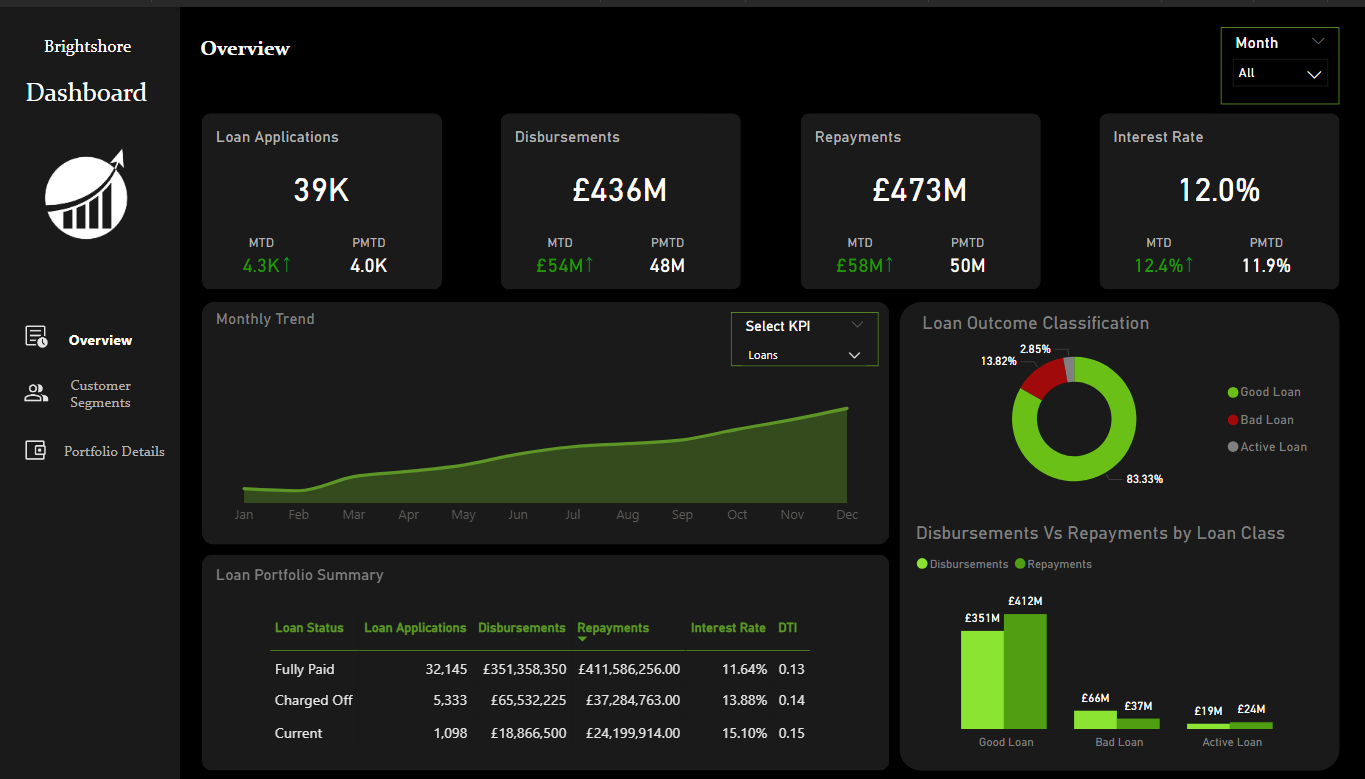

Layout of this report page (visuals, bound fields, positions):
{"tool":"powerbi","page":{"name":"Overview","canvas":[1280,720],"ordinal":0},"visuals":[{"type":"shape","box":[0,0,175.6,719.8],"z":0},{"type":"shape","box":[195.3,98.3,223.3,164],"z":0,"group":"g1"},{"type":"shape","box":[473.6,98.3,223.3,164],"z":0,"group":"g2"},{"type":"shape","box":[751.9,98.3,223.3,164],"z":0,"group":"g3"},{"type":"group","id":"g1","title":"Group 1","box":[195.3,98.3,223.3,165.1],"z":1000},{"type":"shape","box":[1030.2,98.3,223.3,164],"z":1000,"group":"g4"},{"type":"card","title":"Disbursements","fields":{"Values":["Sum(Brightshore.loan_amount)"]},"box":[481.7,111.1,205.8,100],"z":1000,"group":"g2"},{"type":"card","title":"Repayments","fields":{"Values":["Sum(Brightshore.total_payment)"]},"box":[760,111.1,205.8,100],"z":1000,"group":"g3"},{"type":"group","id":"g2","title":"Group 2","box":[473.6,98.3,223.3,165.1],"z":2000},{"type":"card","title":"Interest Rate","fields":{"Values":["Avg(Brightshore.int_rate)"]},"box":[1038.3,111.1,205.8,100],"z":2000,"group":"g4"},{"type":"card","title":"MTD","fields":{"Values":["Measures (2).Disbursement MTD"]},"box":[481.7,211.1,94.2,38.4],"z":2000,"group":"g2"},{"type":"card","title":"MTD","fields":{"Values":["Measures (2).Repayments_MTD"]},"box":[760,211.1,94.2,38.4],"z":2000,"group":"g3"},{"type":"group","id":"g3","title":"Group 3","box":[751.9,98.3,223.3,165.1],"z":3000},{"type":"card","title":"Loan Applications","fields":{"Values":["CountNonNull(Brightshore.Loan_id)"]},"box":[203.4,111.1,205.8,100],"z":3000,"group":"g1"},{"type":"card","title":"PMTD ","fields":{"Values":["Measures (2).Disburse_PMTD"]},"box":[581.7,211.1,94.2,38.4],"z":3000,"group":"g2"},{"type":"card","title":"PMTD ","fields":{"Values":["Measures (2).Repayments_PMTD"]},"box":[860,211.1,94.2,38.4],"z":3000,"group":"g3"},{"type":"card","title":"MTD","fields":{"Values":["Measures (2).int_rate MTD"]},"box":[1038.3,211.1,94.2,38.4],"z":3000,"group":"g4"},{"type":"group","id":"g4","title":"Group 4","box":[1030.2,98.3,223.3,165.1],"z":4000},{"type":"card","title":"PMTD ","fields":{"Values":["Measures (2).int_rate PMTD"]},"box":[1138.3,211.1,94.2,38.4],"z":4000,"group":"g4"},{"type":"card","title":"Loan Applications","fields":{"Values":["Measures (2).Loan_Icon"]},"box":[796.3,213.4,76.7,50],"z":4000,"group":"g3"},{"type":"card","title":"Loan Applications","fields":{"Values":["Measures (2).Loan_Icon"]},"box":[517.3,213.6,76.7,50],"z":4000,"group":"g2"},{"type":"card","title":"Loan Applications","fields":{"Values":["Measures (2).Loan_Icon"]},"box":[1075.5,213.2,76.7,50],"z":5000,"group":"g4"},{"type":"shape","box":[195.3,274.4,639.5,225.6],"z":5000},{"type":"shape","box":[195.3,509.3,639.5,201.2],"z":6000},{"type":"shape","box":[844.2,274.4,409.3,436],"z":7000},{"type":"slicer","fields":{"Values":["KPI selector.KPI selector"]},"box":[687.2,283.7,137.2,50],"z":8000},{"type":"card","title":"MTD","fields":{"Values":["Measures (2).Loan_MTD"]},"box":[203.4,211.1,94.2,38.4],"z":9000,"group":"g1"},{"type":"areaChart","title":"Monthly Trend","fields":{"Y":["Measures (2).Loan Applications"],"Category":["Date Table.Month Name"]},"box":[209.3,333.7,611.6,157],"z":9000},{"type":"card","title":"PMTD ","fields":{"Values":["Brightshore.Loan_PMTD"]},"box":[303.4,211.1,94.2,38.4],"z":10000,"group":"g1"},{"type":"textbox","box":[203.5,275.6,129.1,33.7],"z":10000},{"type":"card","title":"Loan Applications","fields":{"Values":["Measures (2).Loan_Icon"]},"box":[236,213.4,76.7,50],"z":11000,"group":"g1"},{"type":"donutChart","title":"Loan Outcome Classification","fields":{"Category":["Brightshore.Loan Category"],"Y":["CountNonNull(Brightshore.Loan_id)"]},"box":[860.5,283.7,377.9,180.2],"z":11000},{"type":"clusteredColumnChart","title":"Disbursements Vs Repayments by Loan  Class","fields":{"Y":["Measures (2).Disbursements","Measures (2).Repayments"],"Category":["Brightshore.Loan Category"]},"box":[854.7,479.1,388.4,219.8],"z":12000},{"type":"tableEx","title":"Loan Portfolio Summary","fields":{"Values":["Brightshore.loan_status","Measures (2).Loans","Measures (2).Disbursements","Measures (2).Repayments","Measures (2).Interest Rate","Avg(Brightshore.dti)"]},"box":[252.3,559.3,524.4,151.2],"z":13000},{"type":"textbox","box":[203.5,514,195.3,45.3],"z":14000},{"type":"textbox","title":"Brightshore","box":[9.3,26.7,159.3,54.7],"z":15000},{"type":"textbox","title":"Dashboard","box":[0,64,175.6,57],"z":16000},{"type":"textbox","title":"Overview","box":[155.8,26.7,159.3,54.7],"z":17000},{"type":"image","box":[0,96.5,175.6,152.3],"z":18000},{"type":"image","box":[0,288.4,80.2,34.9],"z":19000},{"type":"image","box":[1.2,341.9,80.2,33.7],"z":20000},{"type":"image","box":[0,395.3,80.2,33.7],"z":21000},{"type":"slicer","fields":{"Values":["Date Table.Month Name"]},"box":[1143,18.6,110.5,72.1],"z":22000},{"type":"pageNavigator","box":[46.5,283.7,109.3,50],"z":23000},{"type":"pageNavigator","box":[46.5,334.9,109.3,50],"z":24000},{"type":"pageNavigator","box":[59.3,388.4,109.3,50],"z":25000}]}

Visuals, with their boxes in screenshot pixels (x1, y1, x2, y2), scaled from the page's 1280x720 canvas onto the 1365x779 screenshot:
shape: <region>0, 0, 187, 778</region>
shape: <region>208, 106, 446, 284</region>
shape: <region>505, 106, 743, 284</region>
shape: <region>802, 106, 1040, 284</region>
"Group 1" group: <region>208, 106, 446, 285</region>
shape: <region>1099, 106, 1337, 284</region>
"Disbursements" card: <region>514, 120, 733, 228</region>
"Repayments" card: <region>810, 120, 1030, 228</region>
"Group 2" group: <region>505, 106, 743, 285</region>
"Interest Rate" card: <region>1107, 120, 1327, 228</region>
"MTD" card: <region>514, 228, 614, 270</region>
"MTD" card: <region>810, 228, 911, 270</region>
"Group 3" group: <region>802, 106, 1040, 285</region>
"Loan Applications" card: <region>217, 120, 436, 228</region>
"PMTD " card: <region>620, 228, 721, 270</region>
"PMTD " card: <region>917, 228, 1018, 270</region>
"MTD" card: <region>1107, 228, 1208, 270</region>
"Group 4" group: <region>1099, 106, 1337, 285</region>
"PMTD " card: <region>1214, 228, 1314, 270</region>
"Loan Applications" card: <region>849, 231, 931, 285</region>
"Loan Applications" card: <region>552, 231, 633, 285</region>
"Loan Applications" card: <region>1147, 231, 1229, 285</region>
shape: <region>208, 297, 890, 541</region>
shape: <region>208, 551, 890, 769</region>
shape: <region>900, 297, 1337, 769</region>
slicer - KPI selector.KPI selector: <region>733, 307, 879, 361</region>
"MTD" card: <region>217, 228, 317, 270</region>
"Monthly Trend" areaChart: <region>223, 361, 875, 531</region>
"PMTD " card: <region>324, 228, 424, 270</region>
textbox: <region>217, 298, 355, 335</region>
"Loan Applications" card: <region>252, 231, 333, 285</region>
"Loan Outcome Classification" donutChart: <region>918, 307, 1321, 502</region>
"Disbursements Vs Repayments by Loan  Class" clusteredColumnChart: <region>911, 518, 1326, 756</region>
"Loan Portfolio Summary" tableEx: <region>269, 605, 828, 769</region>
textbox: <region>217, 556, 425, 605</region>
"Brightshore" textbox: <region>10, 29, 180, 88</region>
"Dashboard" textbox: <region>0, 69, 187, 131</region>
"Overview" textbox: <region>166, 29, 336, 88</region>
image: <region>0, 104, 187, 269</region>
image: <region>0, 312, 86, 350</region>
image: <region>1, 370, 87, 406</region>
image: <region>0, 428, 86, 464</region>
slicer - Date Table.Month Name: <region>1219, 20, 1337, 98</region>
pageNavigator: <region>50, 307, 166, 361</region>
pageNavigator: <region>50, 362, 166, 416</region>
pageNavigator: <region>63, 420, 180, 474</region>
